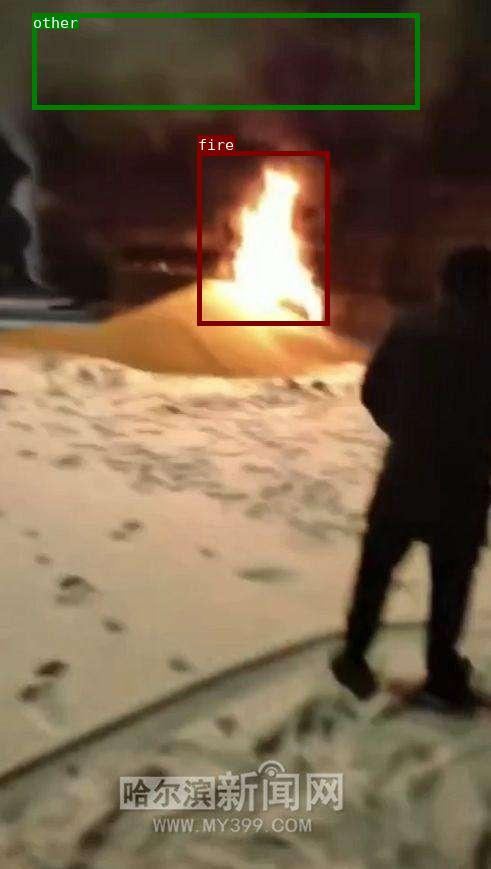fire: (196, 151, 328, 324)
other: (31, 12, 418, 108)
